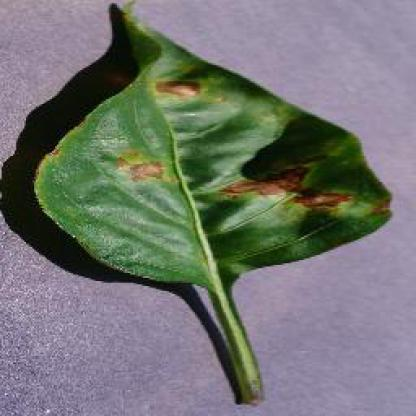bad leaf: (40, 16, 397, 396)
